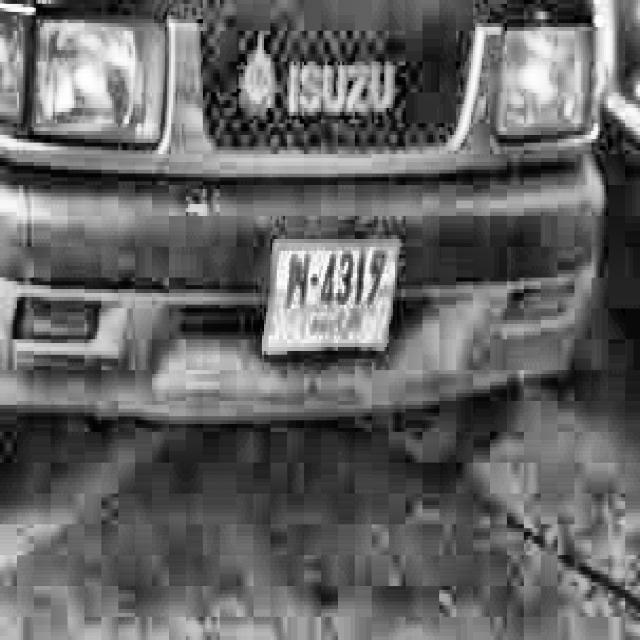license-plate: (245, 208, 408, 378)
